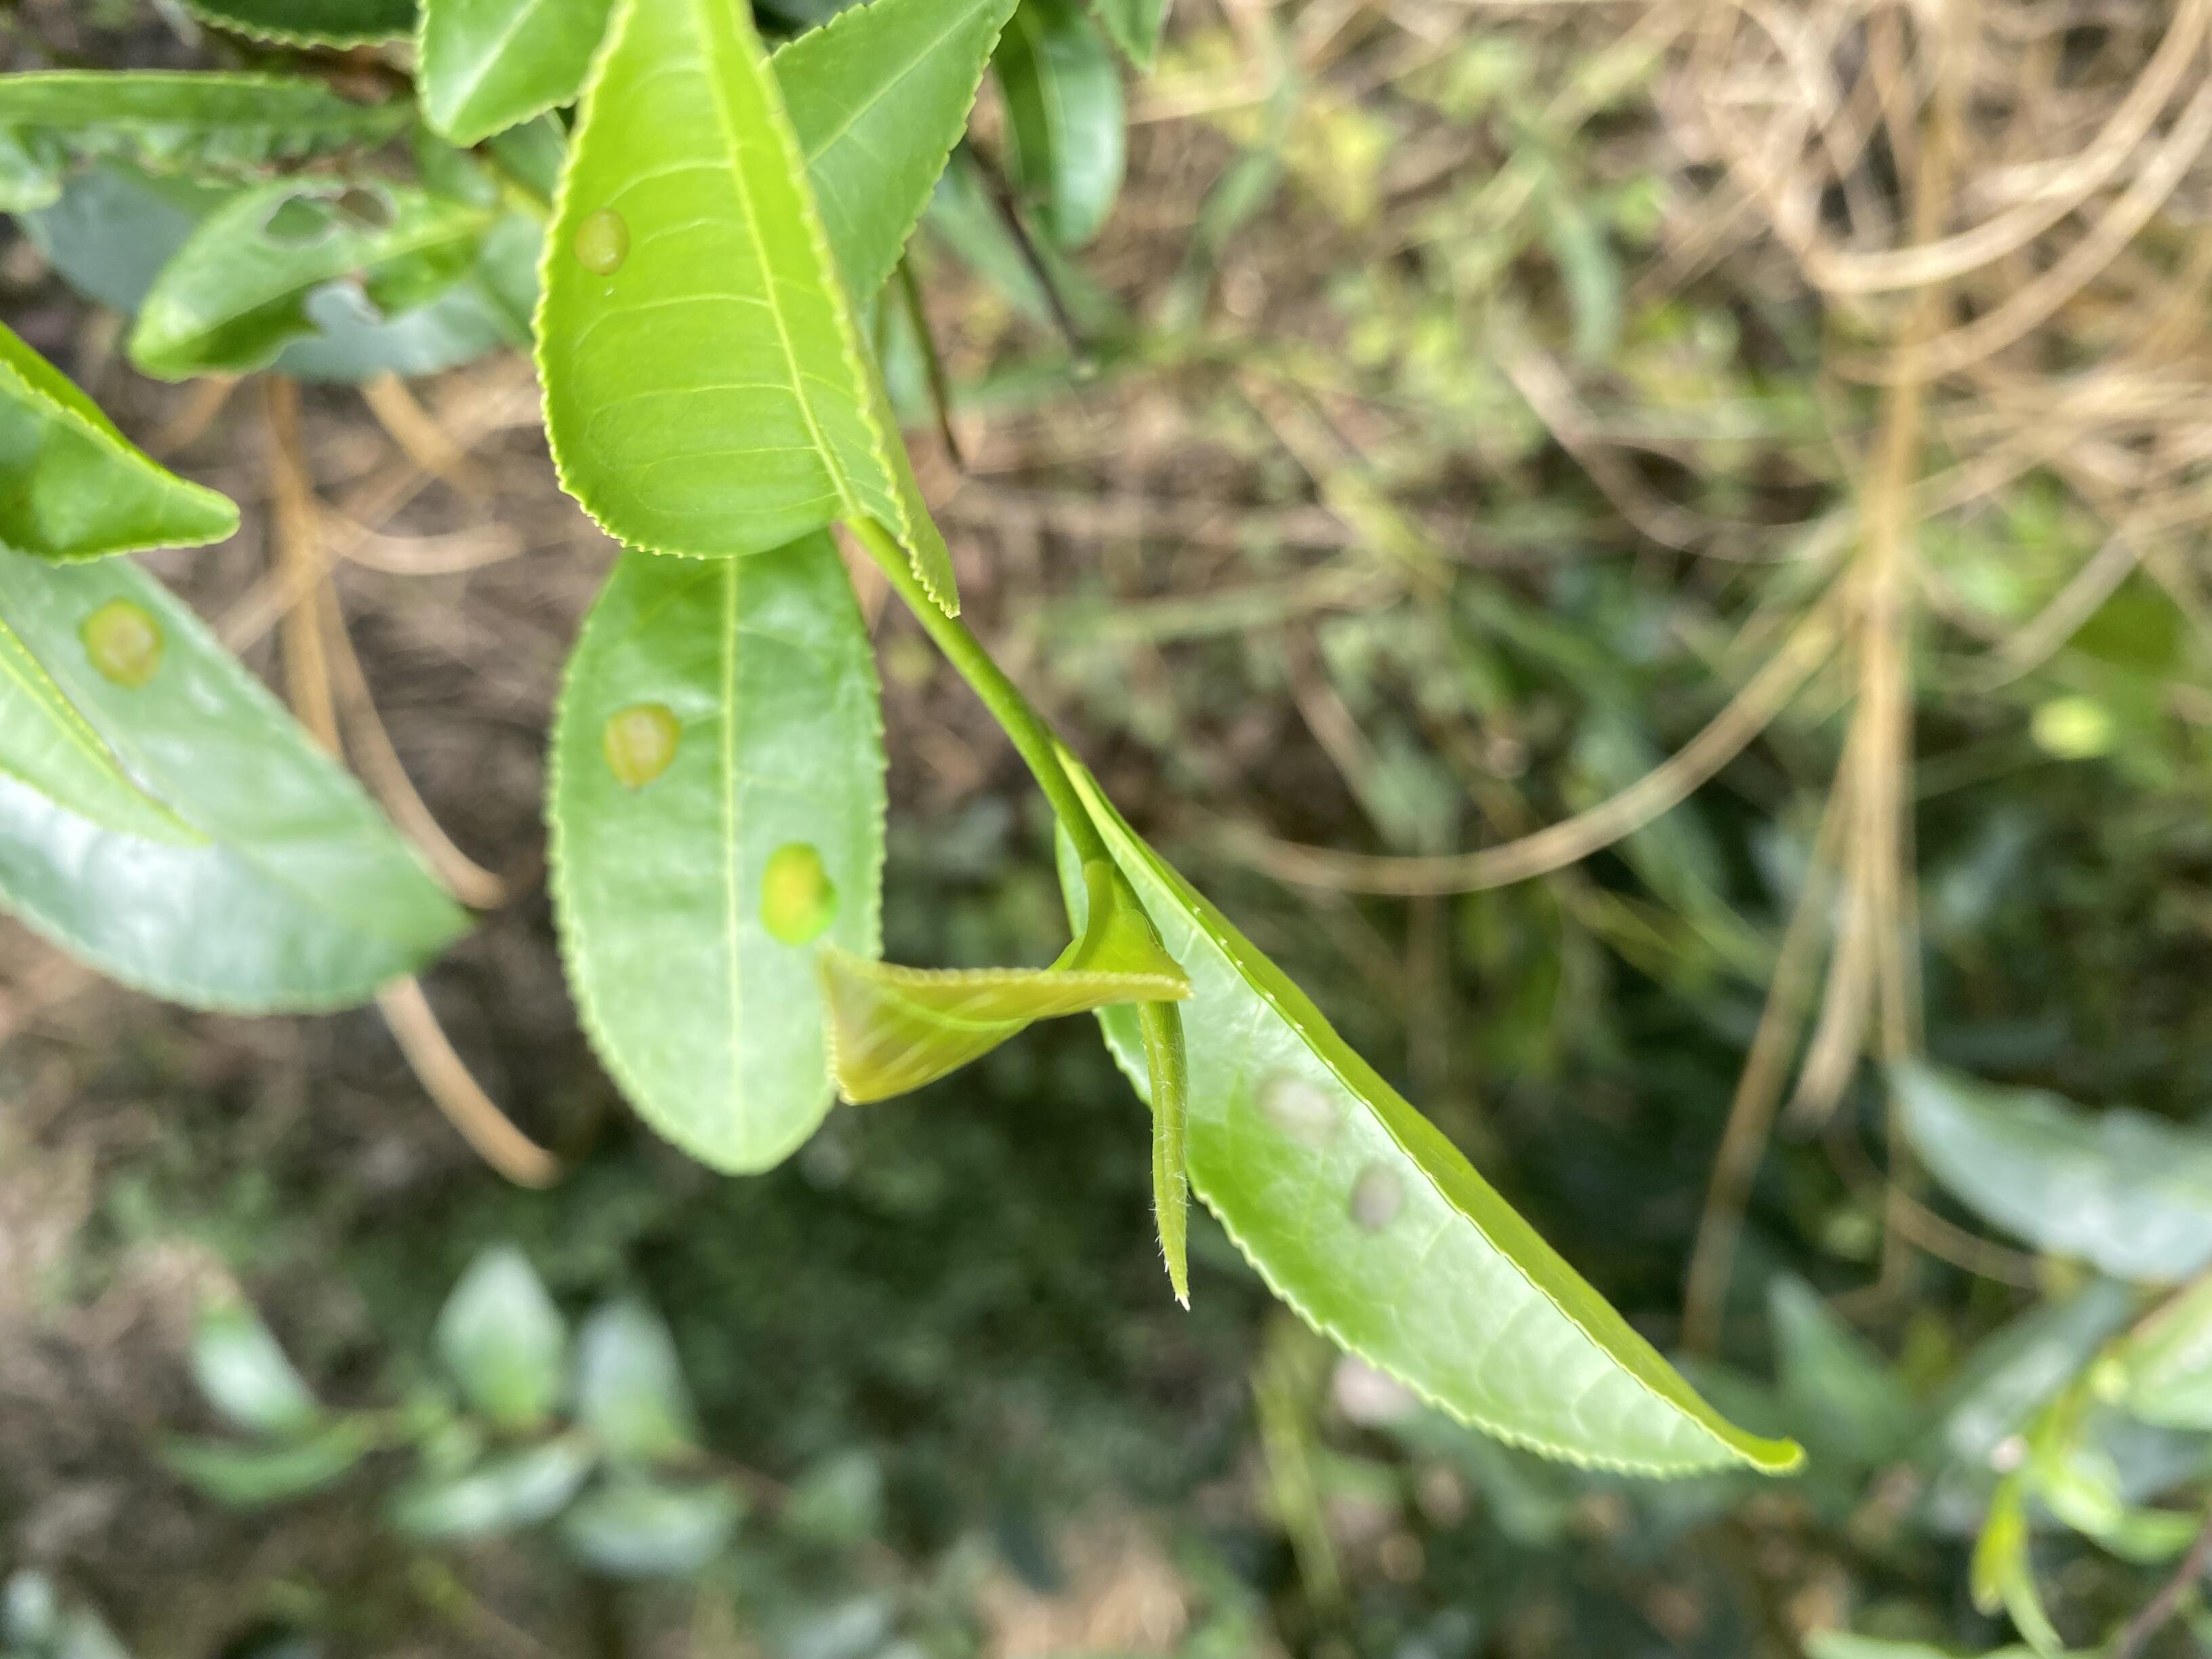chabing_high: (1057, 760, 1810, 1481), (540, 554, 894, 1178)
chabing_low: (528, 2, 961, 619), (2, 549, 467, 1018)
chihuo_high: (131, 174, 503, 387)
healthy: (0, 319, 239, 563), (416, 3, 620, 150)
tanju_low: (806, 924, 1197, 1107)
